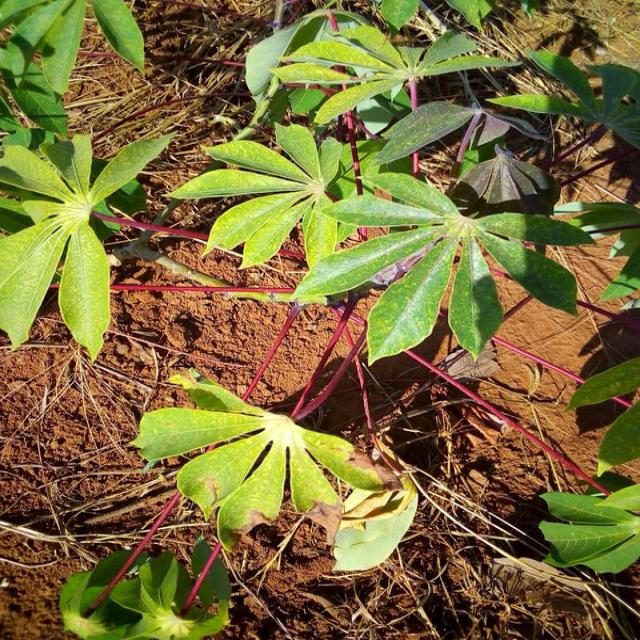cassava leaf: (291, 153, 597, 366), (128, 367, 386, 551), (2, 127, 178, 362)
